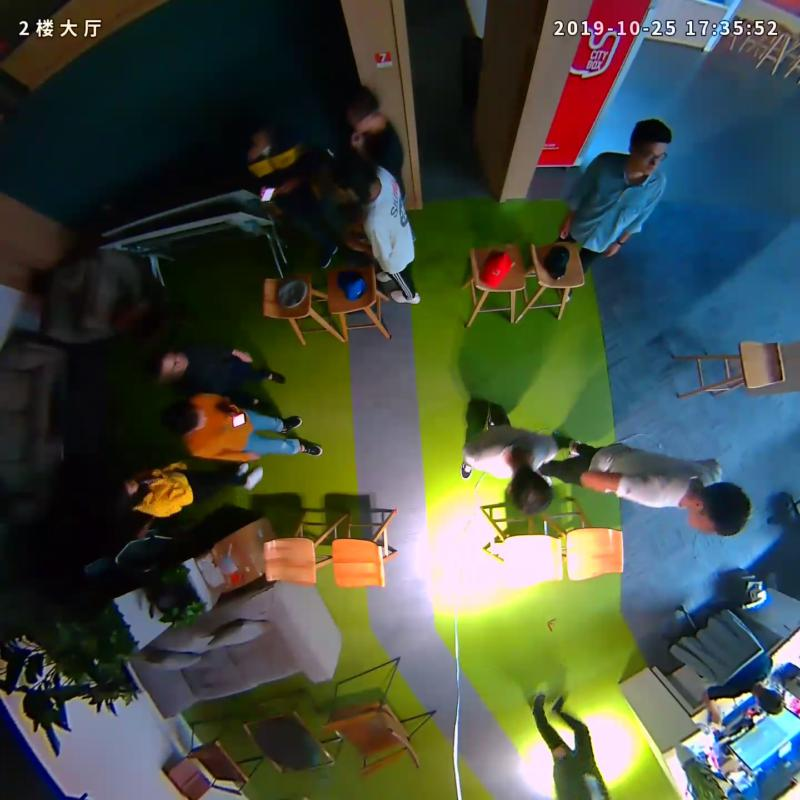head: (685, 477, 759, 552), (500, 466, 560, 522), (328, 83, 389, 138), (620, 112, 670, 179), (221, 106, 276, 162), (323, 149, 379, 203), (135, 339, 191, 389), (153, 398, 207, 440), (98, 467, 142, 517)
